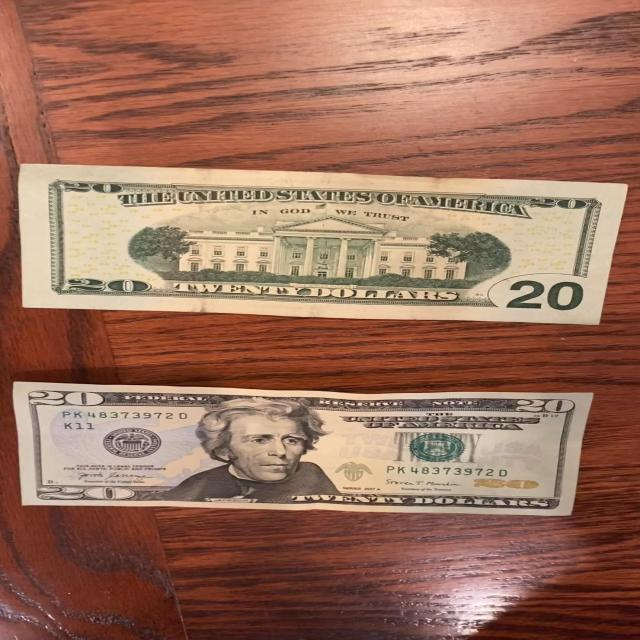20-Back: (10, 164, 633, 326)
20-Front: (9, 379, 598, 517)
